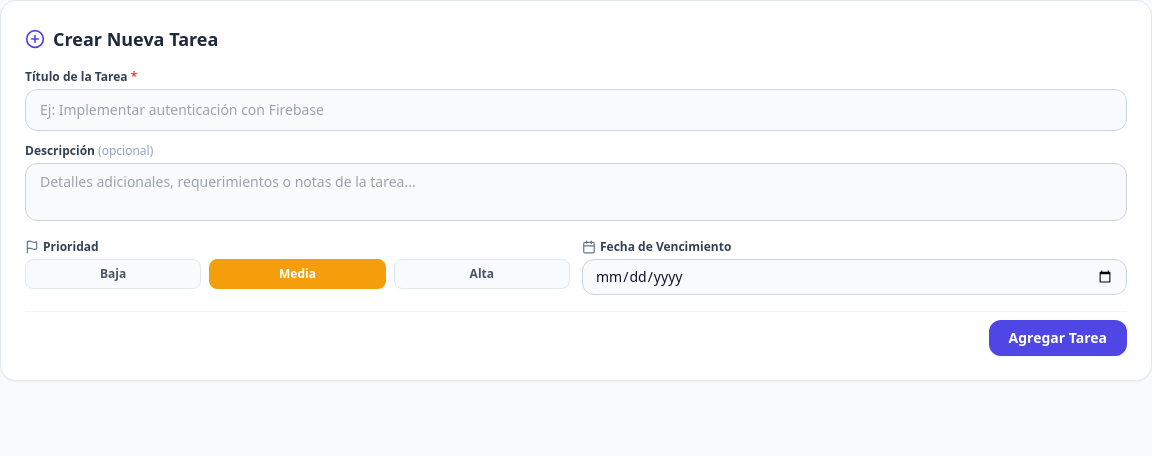
TodoForm Component › muestra error de validación cuando se intenta enviar sin título
Click the button with test id "submit-task-button": click(1058, 338) [989, 320, 1127, 356]
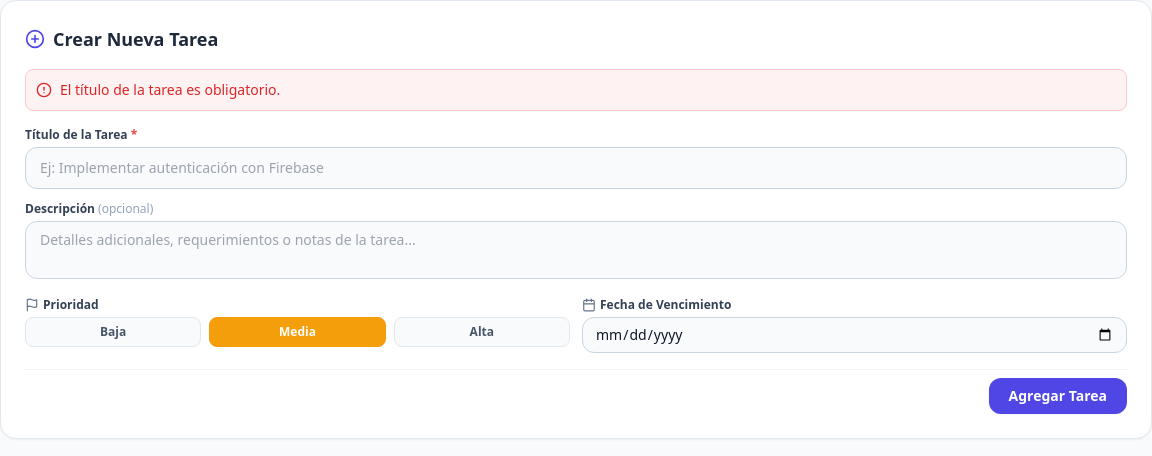
Now the text "El título de la tarea es obligatorio." is shown, box [60, 80, 280, 100]
